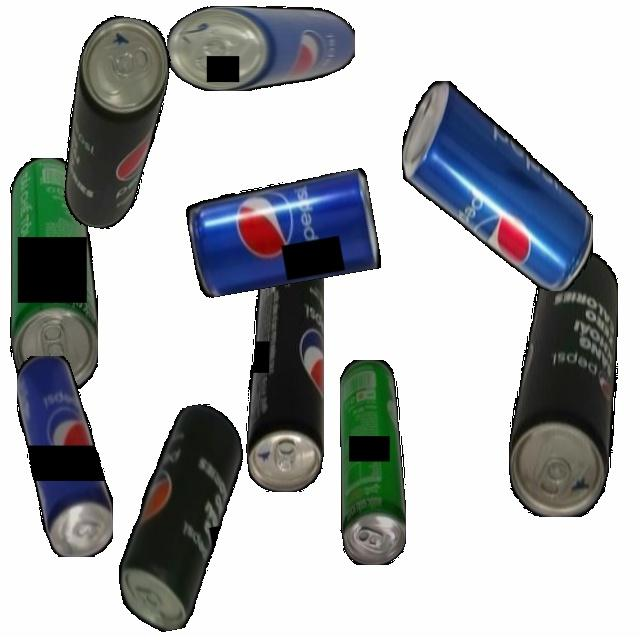debris: (92, 399, 271, 637), (401, 80, 593, 291), (508, 250, 618, 517), (52, 11, 177, 235), (184, 168, 382, 299), (9, 157, 98, 392), (16, 355, 113, 557), (245, 253, 324, 492), (167, 5, 355, 91), (339, 359, 406, 565)
